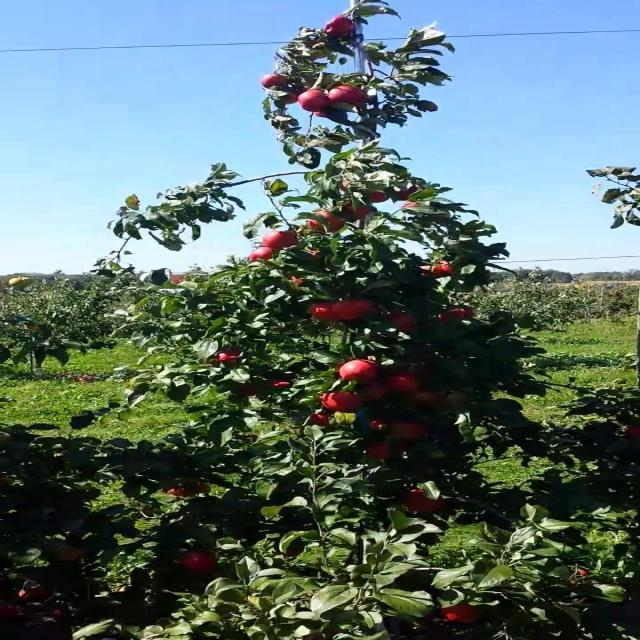apple: (326, 84, 370, 107), (340, 360, 382, 384), (404, 492, 446, 514), (333, 300, 377, 321), (440, 604, 482, 624), (390, 420, 428, 441), (326, 392, 364, 413), (312, 212, 348, 234), (184, 552, 220, 573), (262, 232, 299, 251), (390, 372, 421, 394), (298, 92, 331, 112), (326, 16, 356, 37), (305, 88, 331, 112), (390, 312, 418, 332), (312, 304, 341, 323), (340, 204, 372, 220), (362, 384, 391, 401), (419, 264, 453, 278), (212, 352, 242, 367), (248, 248, 277, 263), (447, 308, 476, 323), (312, 108, 347, 120), (56, 548, 85, 562), (412, 392, 443, 405), (262, 76, 292, 89), (369, 444, 393, 460), (184, 484, 212, 497), (397, 188, 420, 201), (433, 264, 455, 277), (312, 416, 334, 428), (369, 420, 391, 432), (369, 192, 391, 204), (440, 312, 462, 324), (241, 384, 261, 397), (284, 92, 304, 105), (191, 484, 212, 495), (269, 380, 292, 389), (170, 488, 190, 498), (419, 268, 439, 278), (447, 396, 469, 405), (461, 308, 476, 320), (284, 548, 306, 556), (340, 180, 352, 192), (291, 276, 306, 285), (625, 428, 638, 438), (404, 204, 420, 209), (312, 252, 320, 257)
